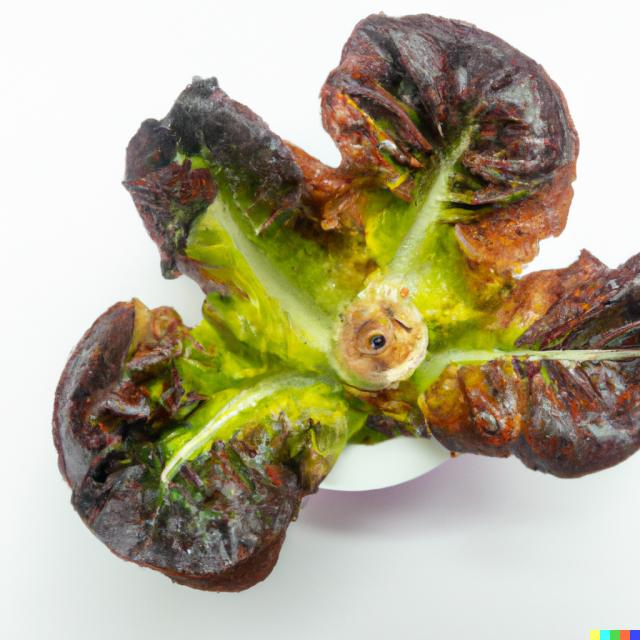-P: (41, 0, 640, 608)
